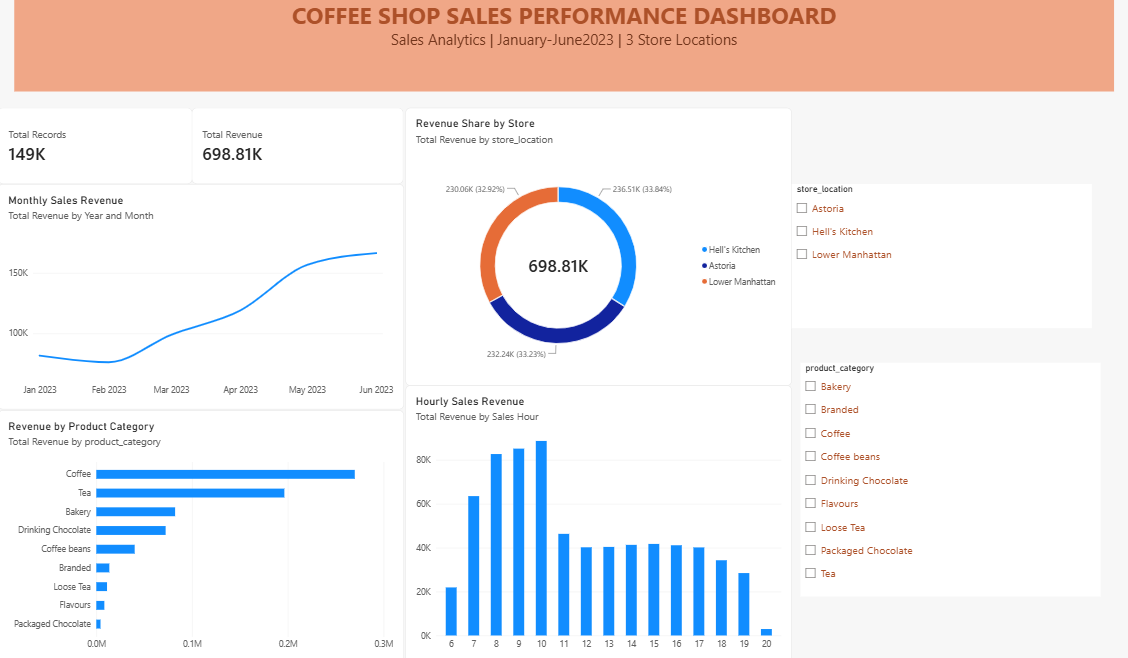

The dashboard page shown, as its layout file describes it:
{"tool":"powerbi","page":{"name":"Page 1","canvas":[1920,1080],"ordinal":0},"visuals":[{"type":"cardVisual","fields":{"Data":["Coffee Shop Sales.Total Records"]},"box":[0,176,316,124],"z":0},{"type":"cardVisual","fields":{"Data":["Coffee Shop Sales.Total Revenue"]},"box":[316,176,344,124],"z":1000},{"type":"lineChart","title":"Monthly Sales Revenue","fields":{"Category":["Coffee Shop Sales.sale_date.Variation.Date Hierarchy.Year","Coffee Shop Sales.sale_date.Variation.Date Hierarchy.Month"],"Y":["Coffee Shop Sales.Total Revenue"]},"box":[0,300,660,366.7],"z":2000},{"type":"donutChart","title":"Revenue Share by Store","fields":{"Category":["Coffee Shop Sales.store_location"],"Y":["Coffee Shop Sales.Total Revenue"]},"box":[662,176,628,452],"z":3000},{"type":"clusteredBarChart","title":" Revenue by Product Category","fields":{"Category":["Coffee Shop Sales.product_category"],"Y":["Coffee Shop Sales.Total Revenue"]},"box":[0,668,660,412],"z":4000},{"type":"clusteredColumnChart","title":"Hourly Sales Revenue","fields":{"Category":["Coffee Shop Sales.Sales Hour"],"Y":["Coffee Shop Sales.Total Revenue"]},"box":[662,628,628,452],"z":5000},{"type":"slicer","fields":{"Values":["Coffee Shop Sales.store_location"]},"box":[1290,300,488,234],"z":6000},{"type":"slicer","fields":{"Values":["Coffee Shop Sales.product_category"]},"box":[1304,592,488,380],"z":7000},{"type":"textbox","box":[26,0,1788,150],"z":8000}]}

Visuals, with their boxes on the page's 1920x1080 design canvas (x1, y1, x2, y2). These are canvas units, not pixel positions in the 1128x658 screenshot, which may show the page scaled, cropped or inside an application window:
cardVisual - Coffee Shop Sales.Total Records: [x1=0, y1=176, x2=316, y2=300]
cardVisual - Coffee Shop Sales.Total Revenue: [x1=316, y1=176, x2=660, y2=300]
"Monthly Sales Revenue" lineChart: [x1=0, y1=300, x2=660, y2=667]
"Revenue Share by Store" donutChart: [x1=662, y1=176, x2=1290, y2=628]
" Revenue by Product Category" clusteredBarChart: [x1=0, y1=668, x2=660, y2=1080]
"Hourly Sales Revenue" clusteredColumnChart: [x1=662, y1=628, x2=1290, y2=1080]
slicer - Coffee Shop Sales.store_location: [x1=1290, y1=300, x2=1778, y2=534]
slicer - Coffee Shop Sales.product_category: [x1=1304, y1=592, x2=1792, y2=972]
textbox: [x1=26, y1=0, x2=1814, y2=150]
